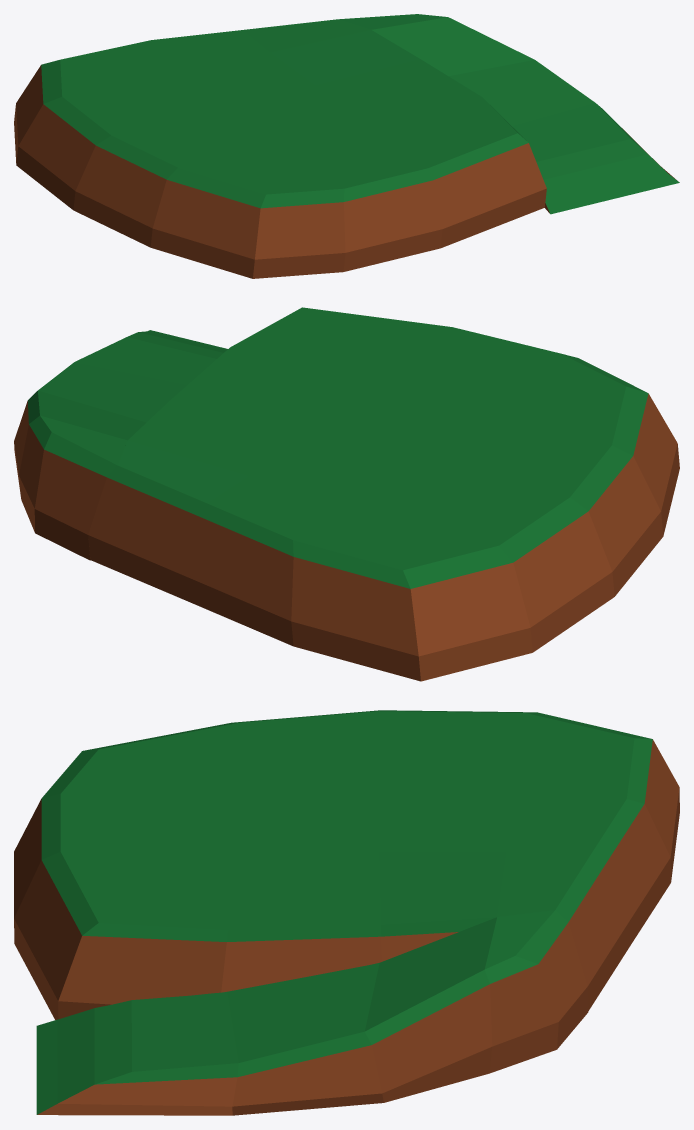
File: Hill_Portal_FBX.fbx
The picture shows the model from 3 angles, top to bottom: view 1: azimuth 30°, elevation 25°; view 2: azimuth 150°, elevation 25°; view 3: azimuth 270°, elevation 25°; orthographic projection. The views are drawn at different scales.
Visible parts, largest first — view 1: Box178, Box180; view 2: Box178, Box180; view 3: Box178, Box180.
Boxes of the visible parts, box(x1,y1,x2,y2) form: Box178: box(14, 19, 546, 278); Box180: box(338, 14, 679, 214); Box178: box(88, 307, 679, 681); Box180: box(14, 330, 227, 560); Box178: box(14, 710, 679, 1019); Box180: box(36, 910, 588, 1115).
Bounding box in the file's own units: 5837 × 802 × 4909.
